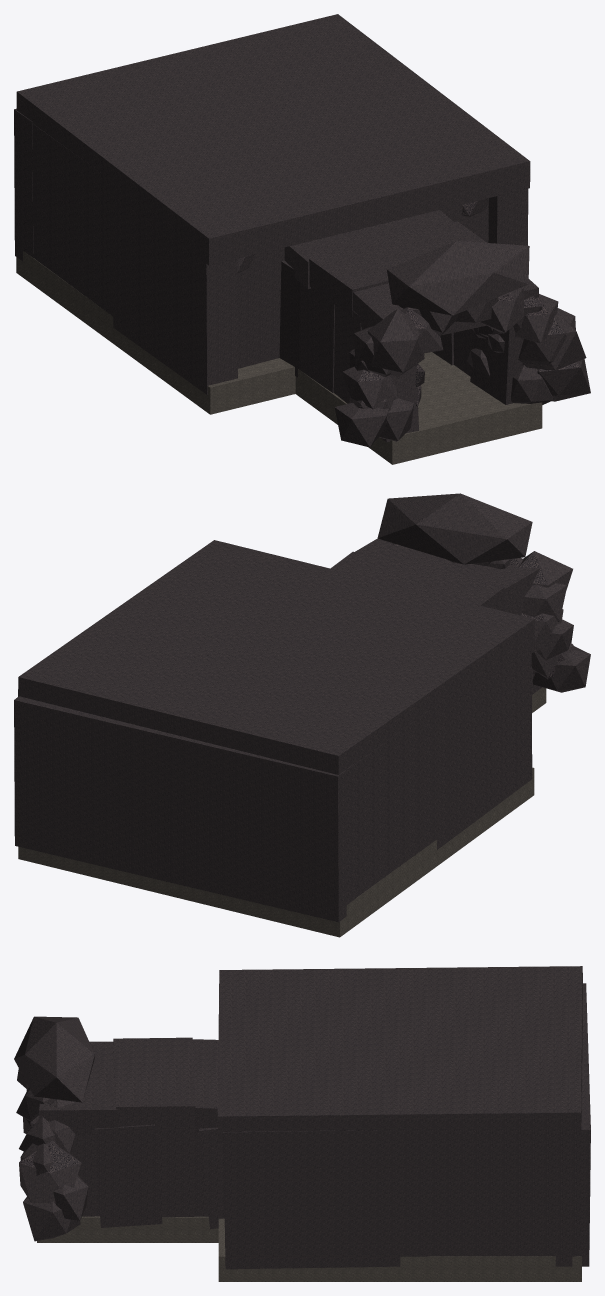
The model's file is cave_den_basalt.glb.
The picture shows the model from 3 angles, top to bottom: view 1: azimuth 30°, elevation 25°; view 2: azimuth 150°, elevation 25°; view 3: azimuth 270°, elevation 25°; orthographic projection. The views are drawn at different scales.
Parts seen in each view (by area): view 1: Body.002; view 2: Body.002; view 3: Body.002.
Boxes of the visible parts, box(x1,y1,x2,y2) form: Body.002: box(14, 14, 590, 464); Body.002: box(14, 493, 590, 937); Body.002: box(14, 966, 590, 1281).
Size of the model in its own units: 12.46 by 7.33 by 20.64.
3 materials, 2 textured.
